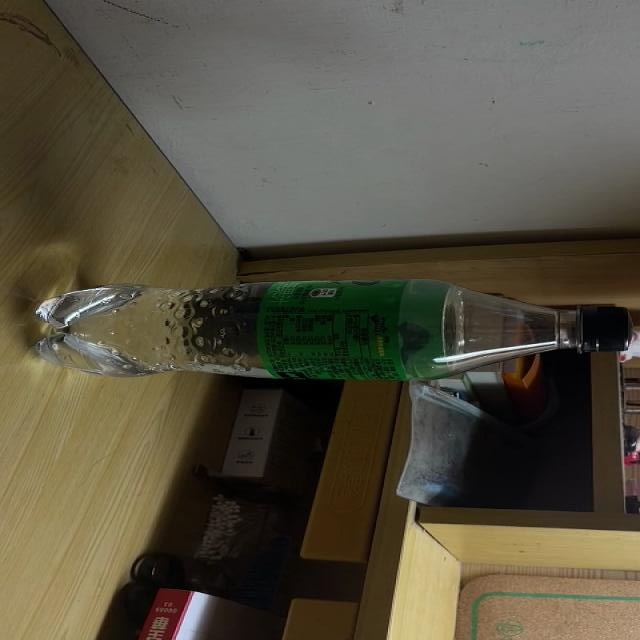Sprite: (34, 282, 628, 378)
